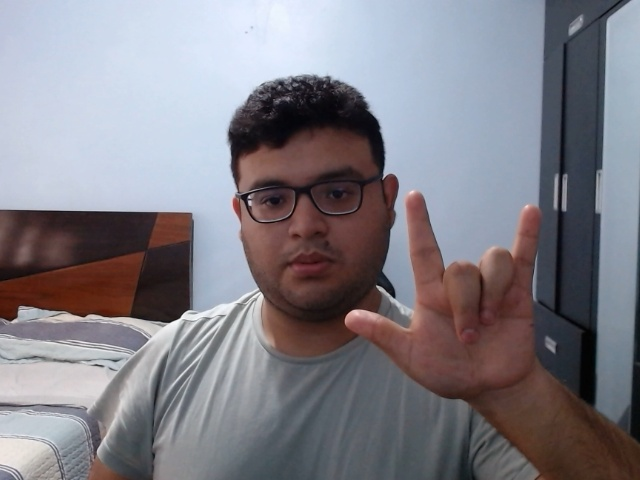I love you: (344, 190, 549, 406)
